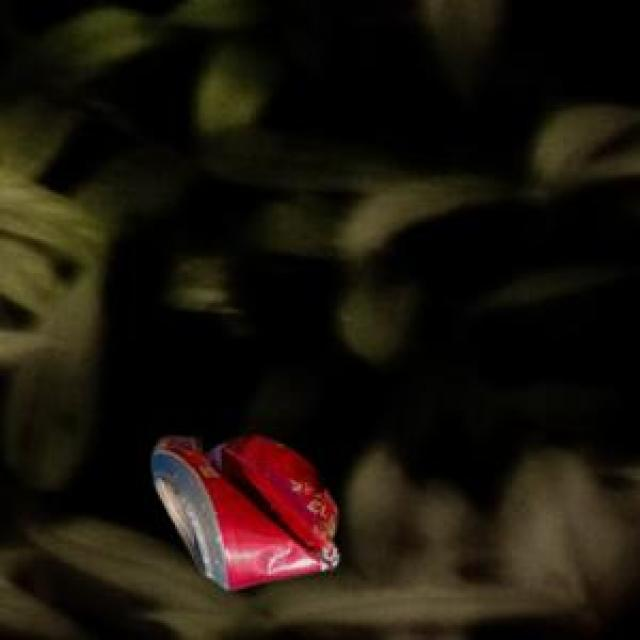Can: (148, 432, 336, 586)
